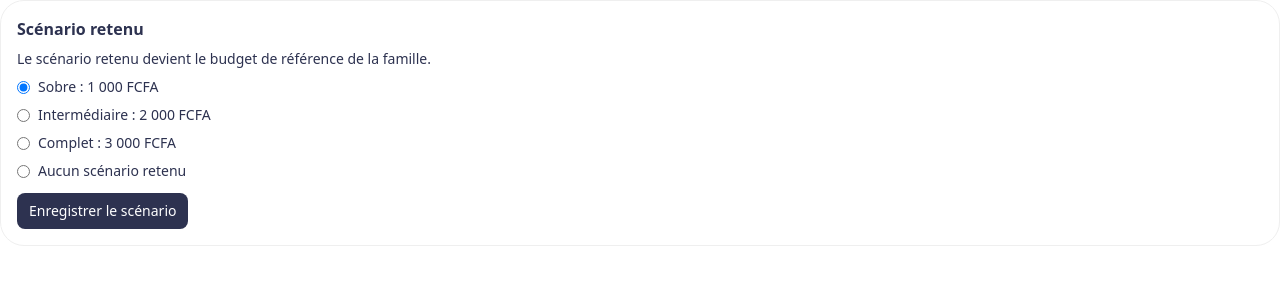
Test: ScenarioForm › keeps the person’s choice after an error
The width and height of the screenshot is (1280, 295).
Click the radio button labelled "Complet : 3 000 FCFA".
click(24, 143)  # box [17,136,30,150]
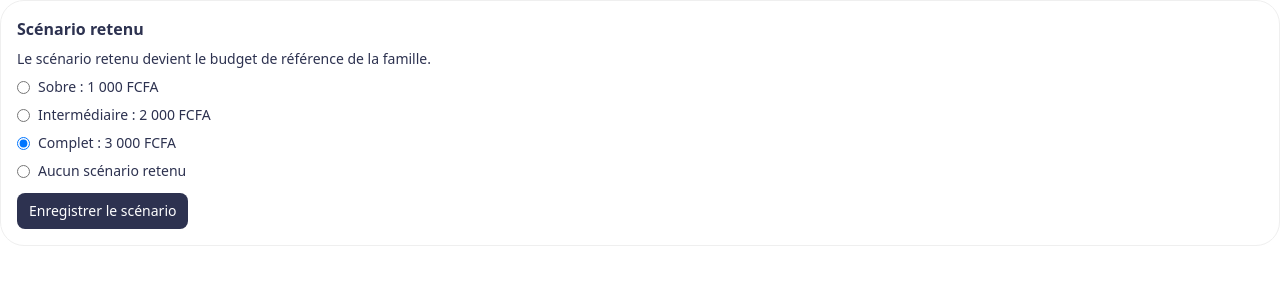
Click the button "Enregistrer le scénario".
click(103, 211)  # box [17,193,188,229]
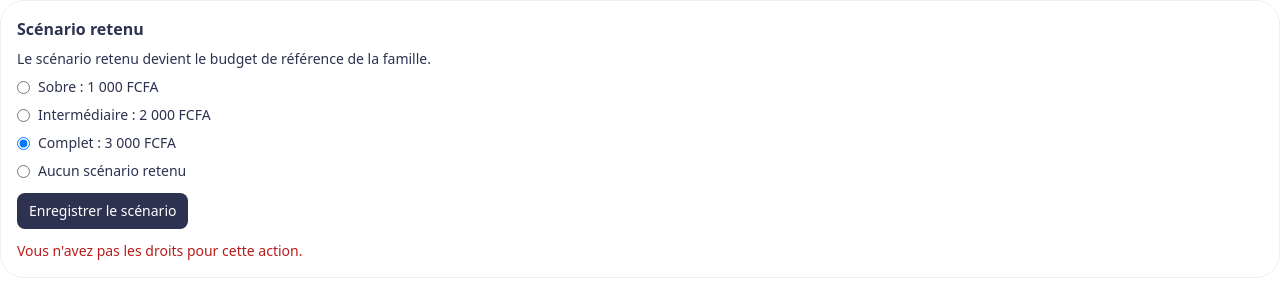
Expected: the radio button labelled "Complet : 3 000 FCFA" is checked, [17,136,30,150]
Expected: the message reads "Vous n'avez pas les droits pour cette action.", [17,241,302,260]
